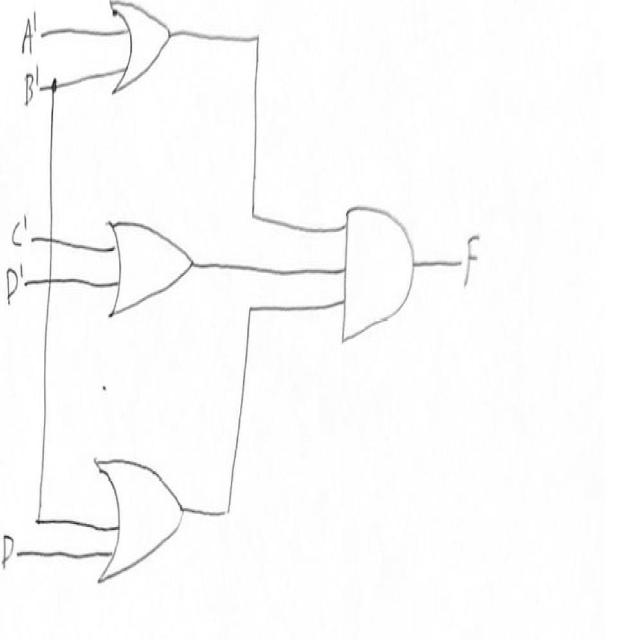AND: (339, 180, 421, 358)
OR: (83, 424, 189, 596), (96, 198, 195, 333), (92, 0, 175, 107)
